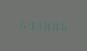nine: (25, 19, 32, 30)
six: (17, 19, 24, 30), (58, 20, 65, 31)
three: (34, 19, 41, 30)
zero: (42, 19, 49, 31), (50, 20, 57, 31)
